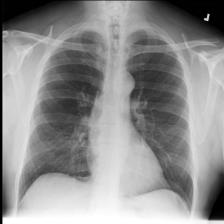normal: (16, 25, 198, 216)
